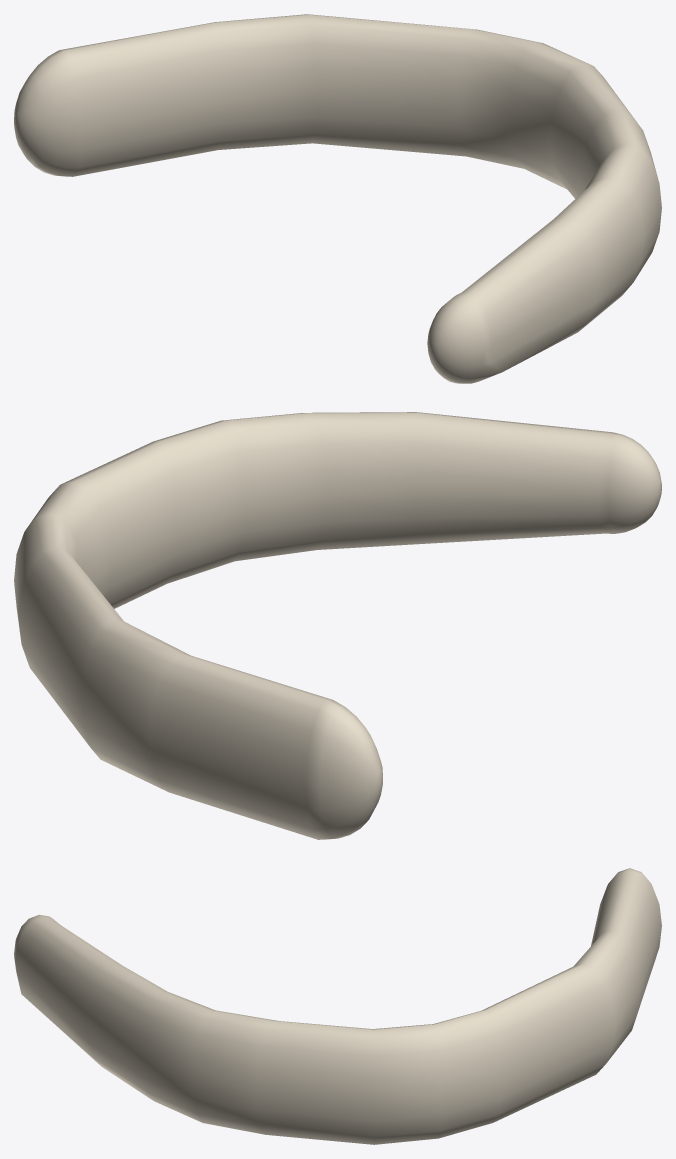
Rendered from Rib.fbx.
3 views of the same model, one above another, from view 1: azimuth 30°, elevation 25°; view 2: azimuth 150°, elevation 25°; view 3: azimuth 270°, elevation 25° (orthographic). The views are drawn at different scales.
Visible parts, largest first — view 1: Rib; view 2: Rib; view 3: Rib.
Boxes of the visible parts, left/top/right/bottom form: Rib: left=14, top=14, right=661, bottom=383; Rib: left=14, top=412, right=661, bottom=839; Rib: left=14, top=868, right=661, bottom=1144.
Size of the model in its own units: 0.9378 by 1.31 by 0.2535.
